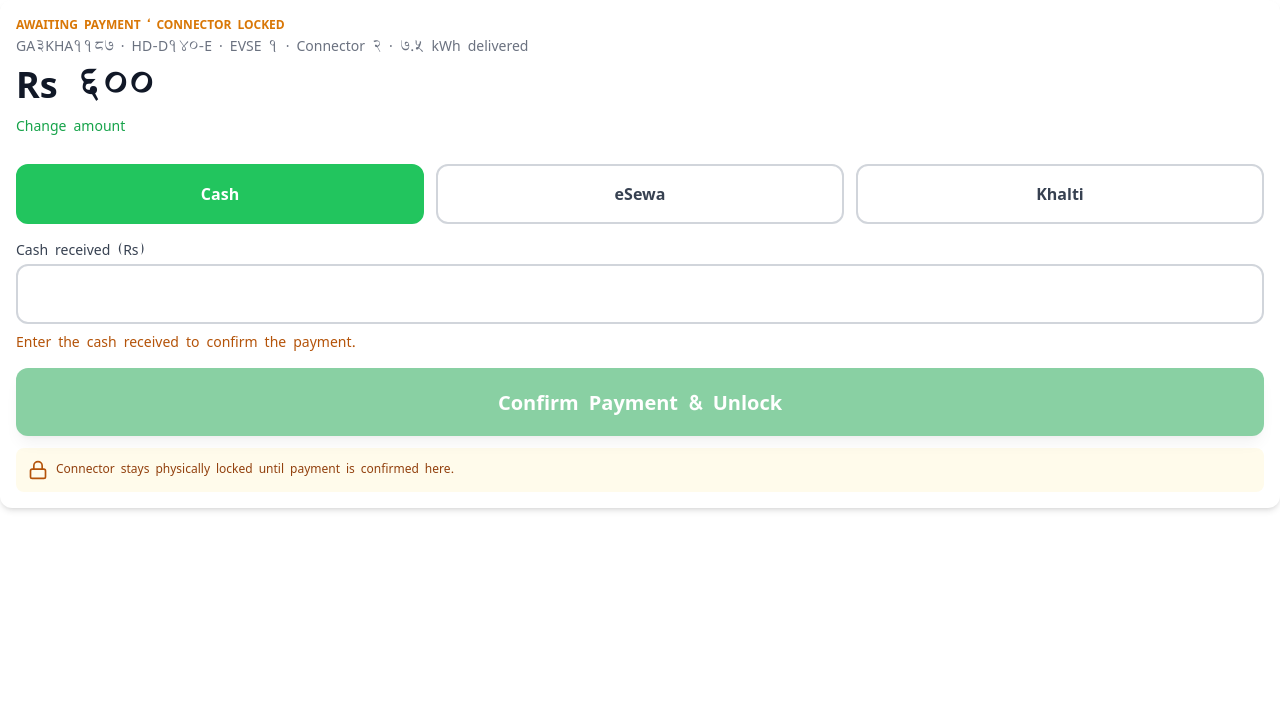
Test case: PaymentCard cash received, change and shortfall › shows the change to return in green when the customer pays more
Type "1000" into the number field labelled "Cash received (Rs)" at (640, 294), box [16,264,1264,324]
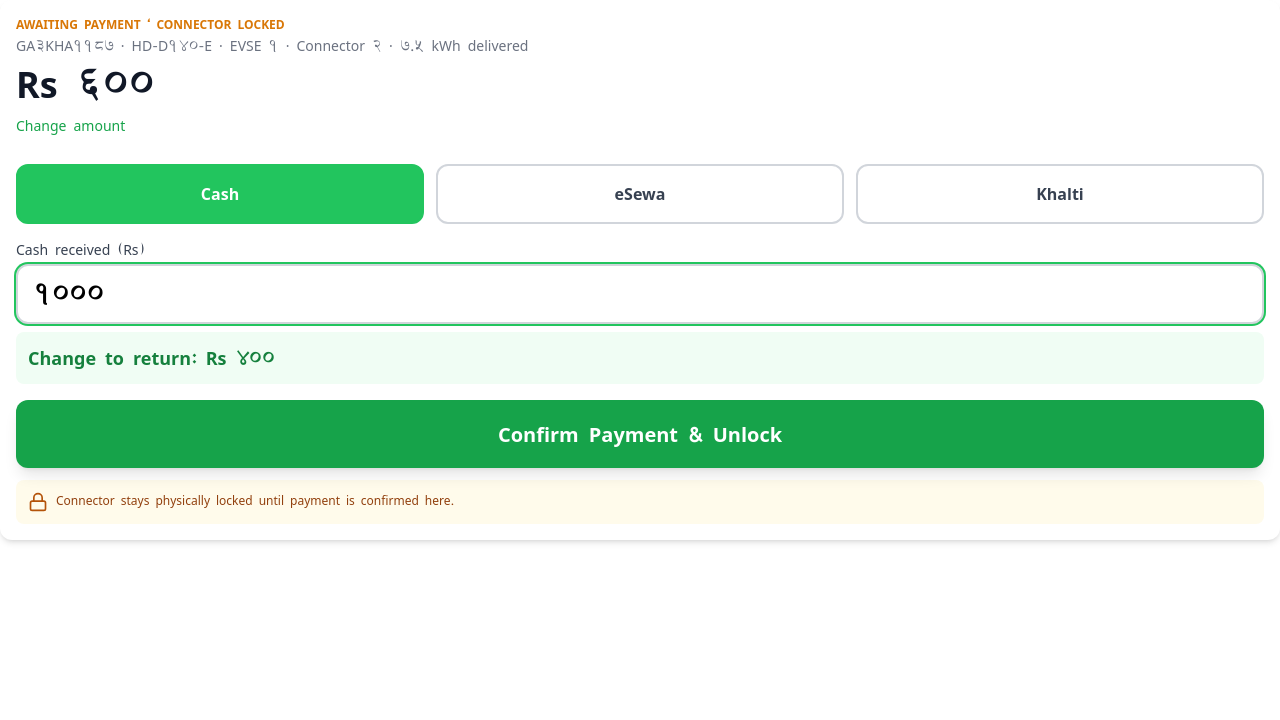
Check: the message reads "Change to return: Rs 400", box [28,343,275,373]
